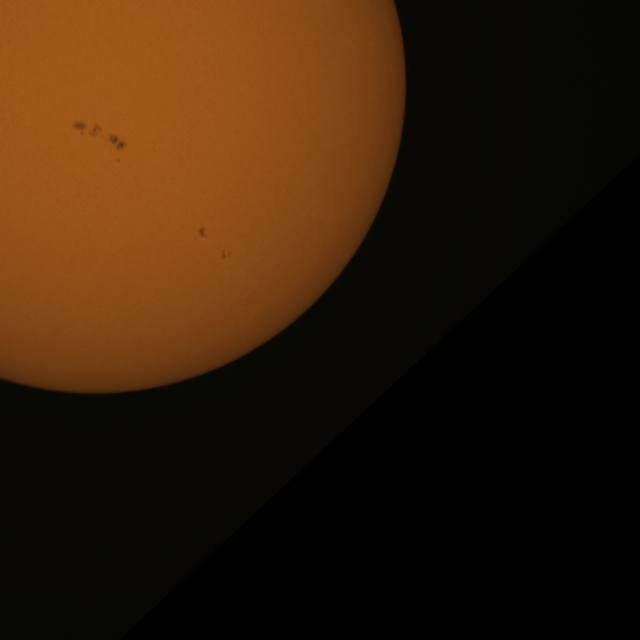sunspot: (69, 119, 131, 154), (71, 119, 105, 139), (100, 129, 128, 153), (216, 247, 232, 262), (194, 226, 208, 242), (115, 158, 121, 164)
